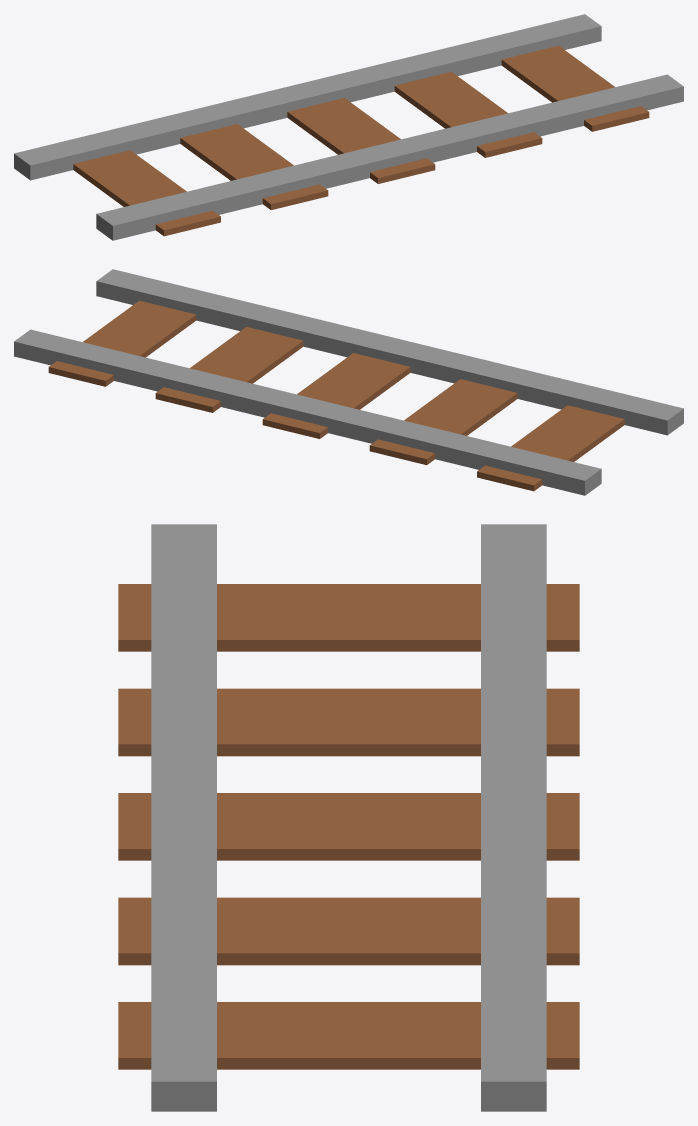
File: Vies Tren.fbx
3 renders of one model, top to bottom at view 1: azimuth 30°, elevation 25°; view 2: azimuth 150°, elevation 25°; view 3: azimuth 270°, elevation 25°, orthographic. The views are drawn at different scales.
Parts seen in each view (by area): view 1: Cube.014; view 2: Cube.014; view 3: Cube.014.
Boxes of the visible parts, x1,y1,x2,y2 form: Cube.014: (14,14,683,240); Cube.014: (14,269,683,495); Cube.014: (118,524,579,1111).
Size of the model in its own units: 8 by 0.2 by 2.8.
